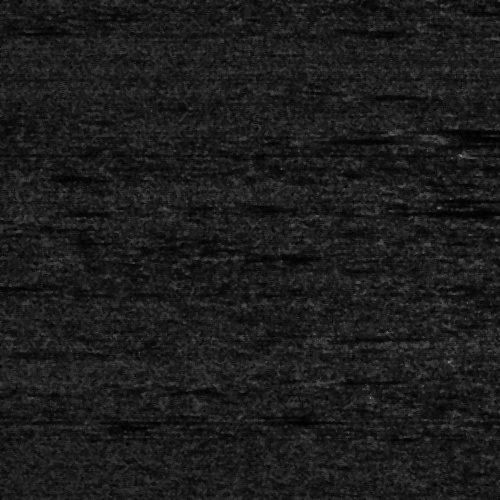object: (426, 130, 467, 143), (442, 149, 500, 156), (339, 207, 412, 212), (296, 334, 337, 339), (279, 136, 310, 141), (398, 128, 429, 131), (491, 30, 500, 37)
shadow: (446, 130, 500, 143), (376, 207, 500, 212), (295, 136, 369, 141), (317, 334, 391, 339), (474, 149, 500, 156), (414, 128, 441, 131)
